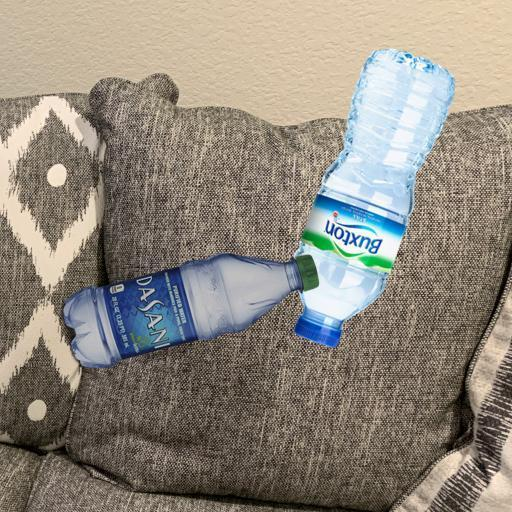bottle: (291, 40, 455, 349), (57, 246, 322, 384)
